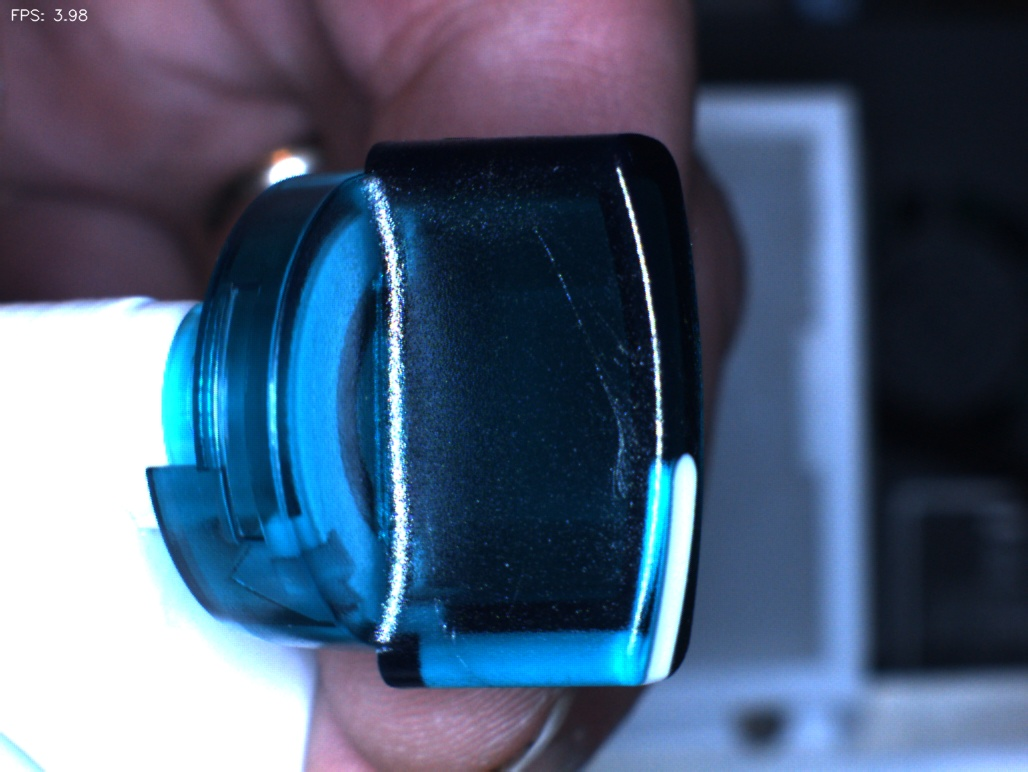Givrage: (549, 288, 659, 504)
